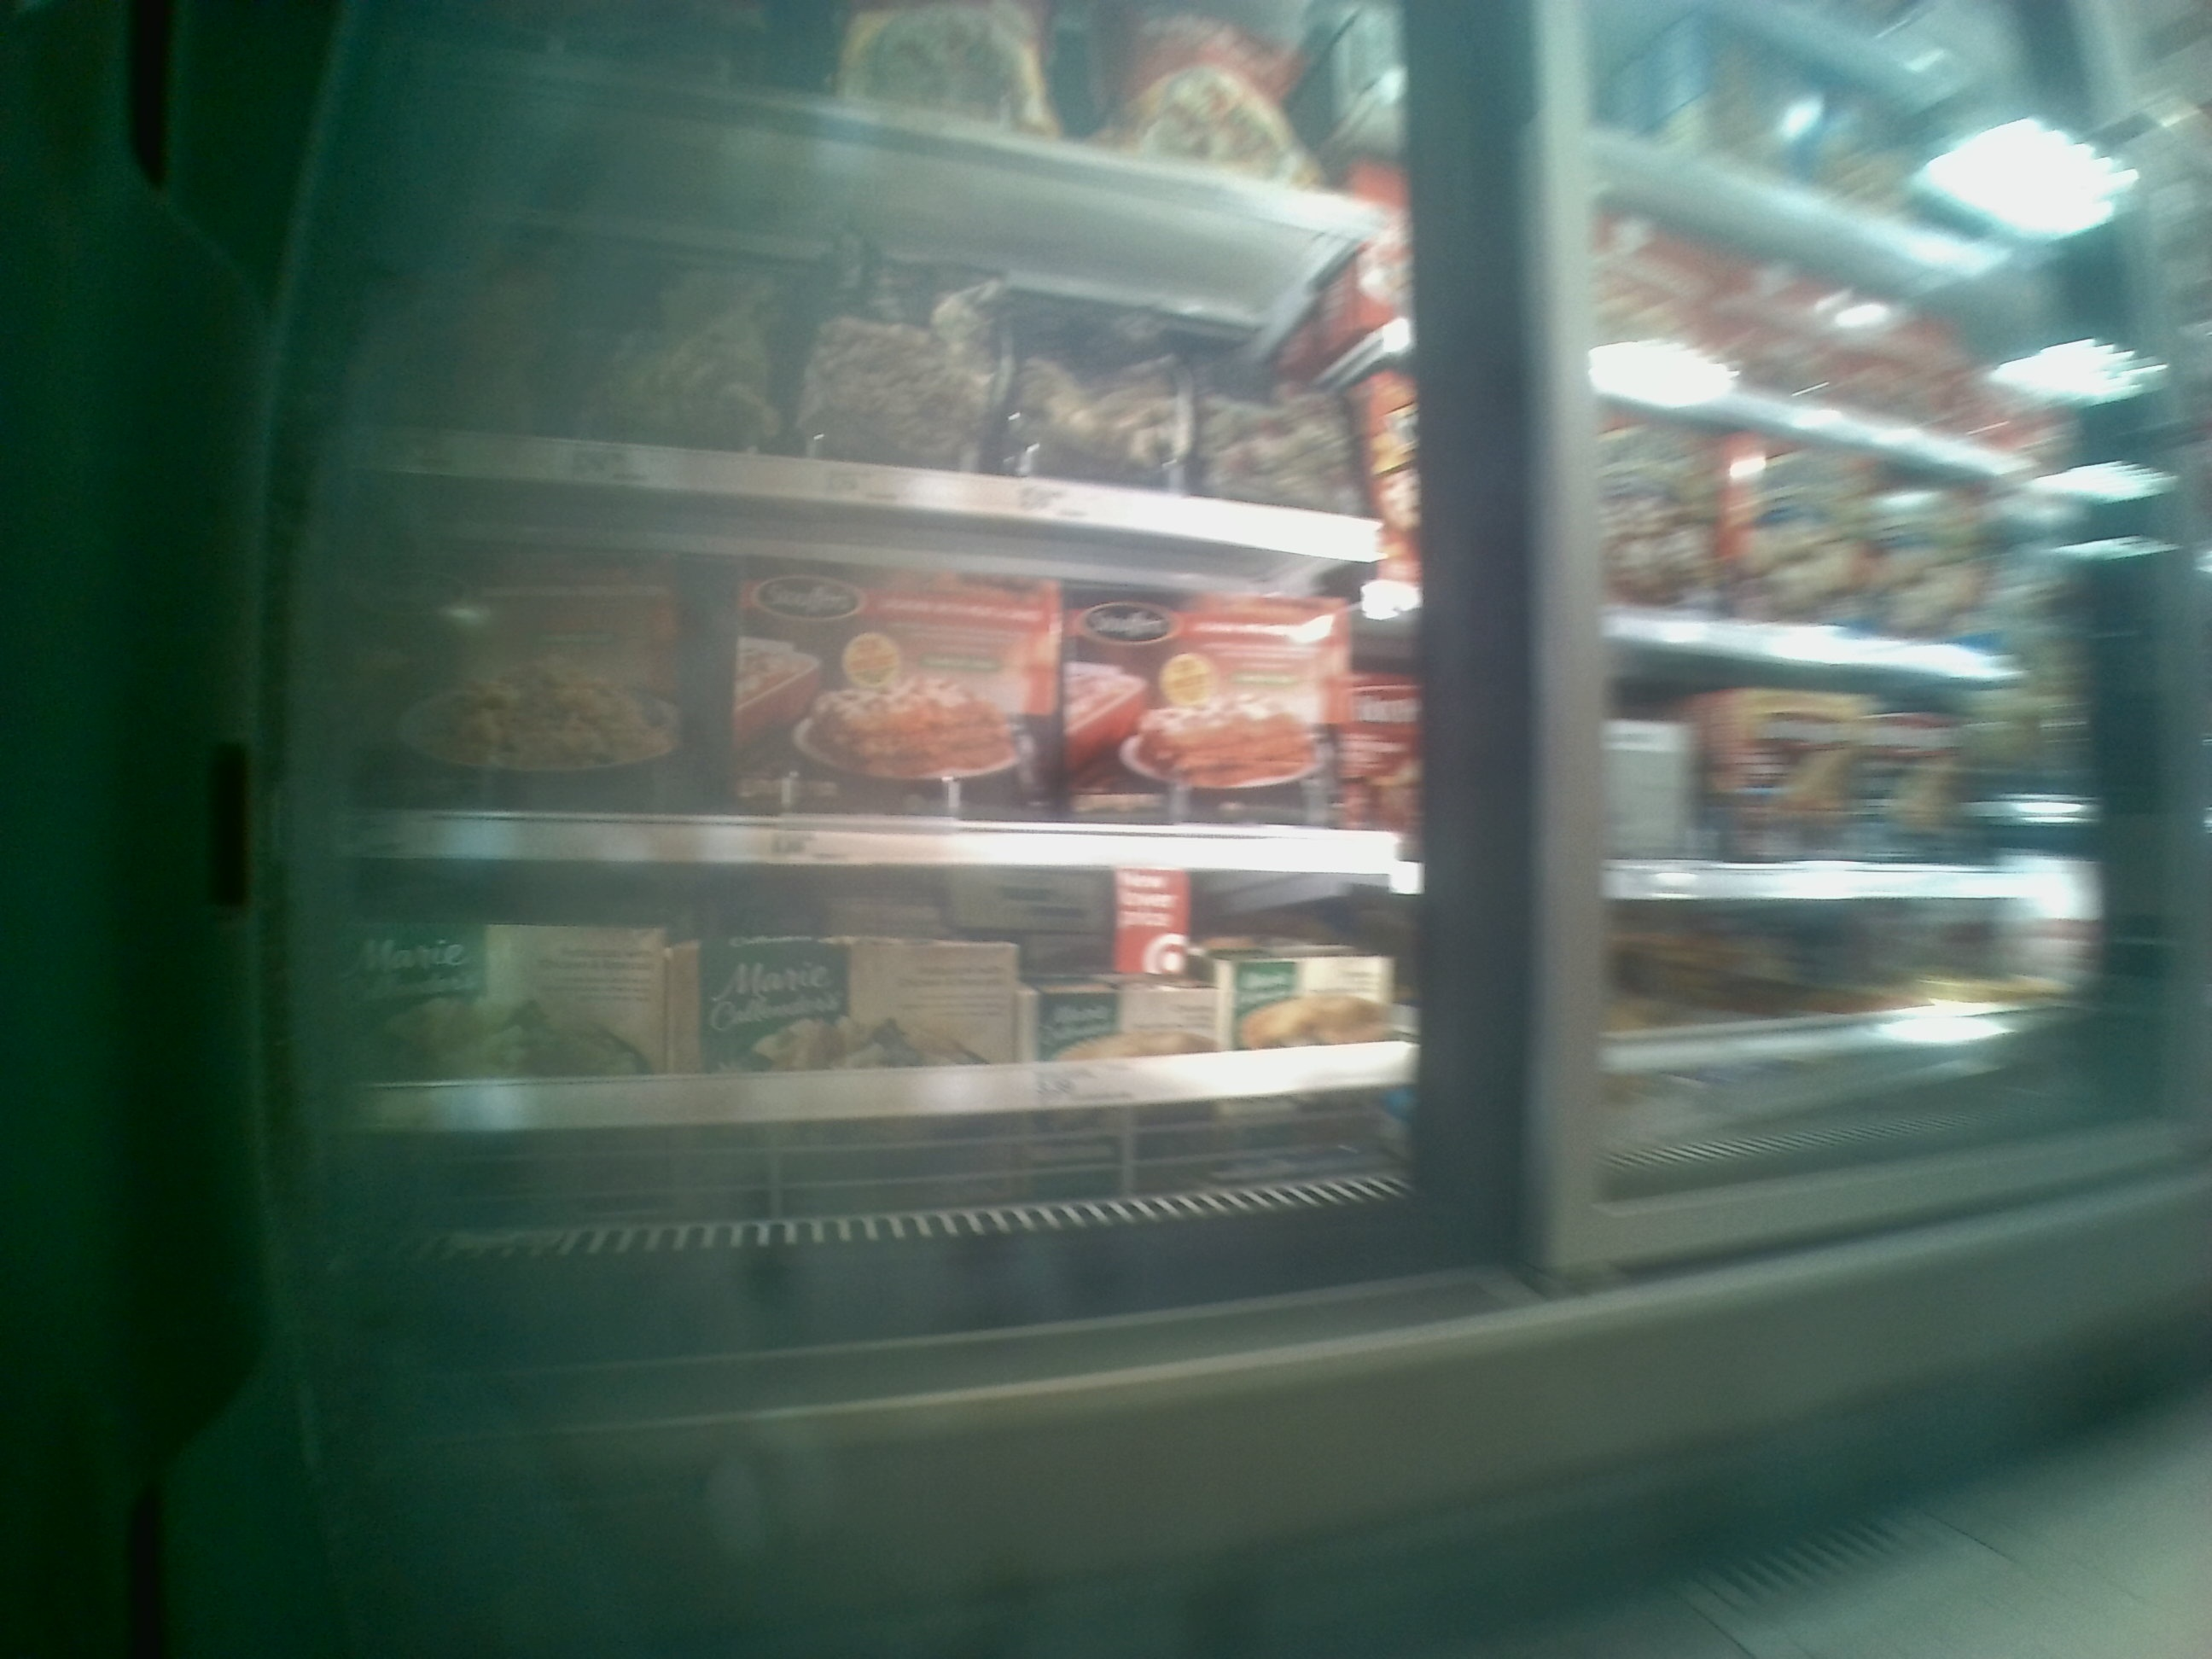frozen-food-shelf: (352, 563, 1400, 875)
